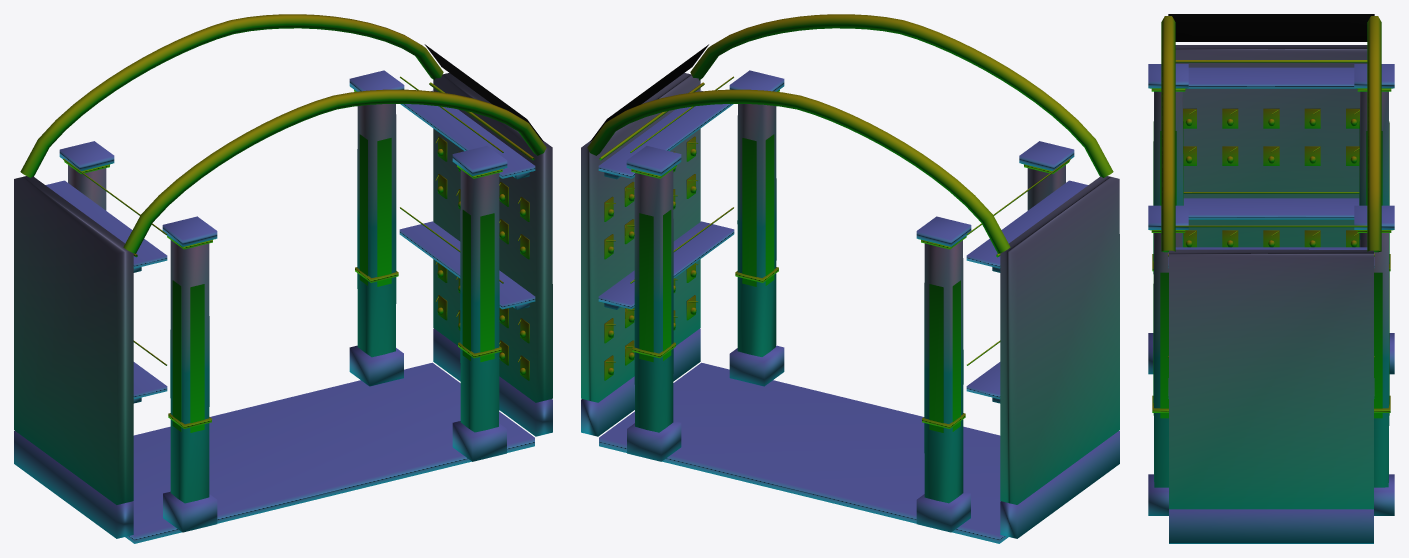
The model's file is lowlight_nave_bay.glb.
The picture shows the model from 3 angles, left to right: view 1: azimuth 30°, elevation 25°; view 2: azimuth 150°, elevation 25°; view 3: azimuth 270°, elevation 25°; orthographic projection.
Visible parts, largest first — view 1: lowlight_nave_bay; view 2: lowlight_nave_bay; view 3: lowlight_nave_bay.
Boxes of the visible parts, x1,y1,x2,y2 form: lowlight_nave_bay: (14, 14, 552, 543); lowlight_nave_bay: (581, 14, 1119, 543); lowlight_nave_bay: (1148, 14, 1394, 543).
Size of what is drawn, in the model's own units: 19.57 by 17.13 by 9.56.
